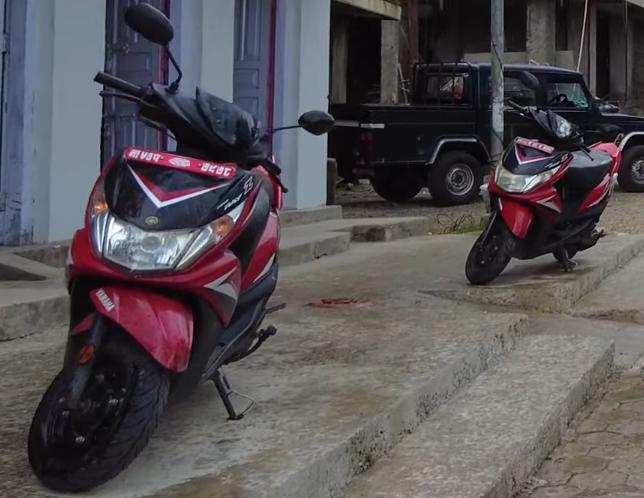scooter: (24, 0, 337, 498), (464, 61, 632, 295)
